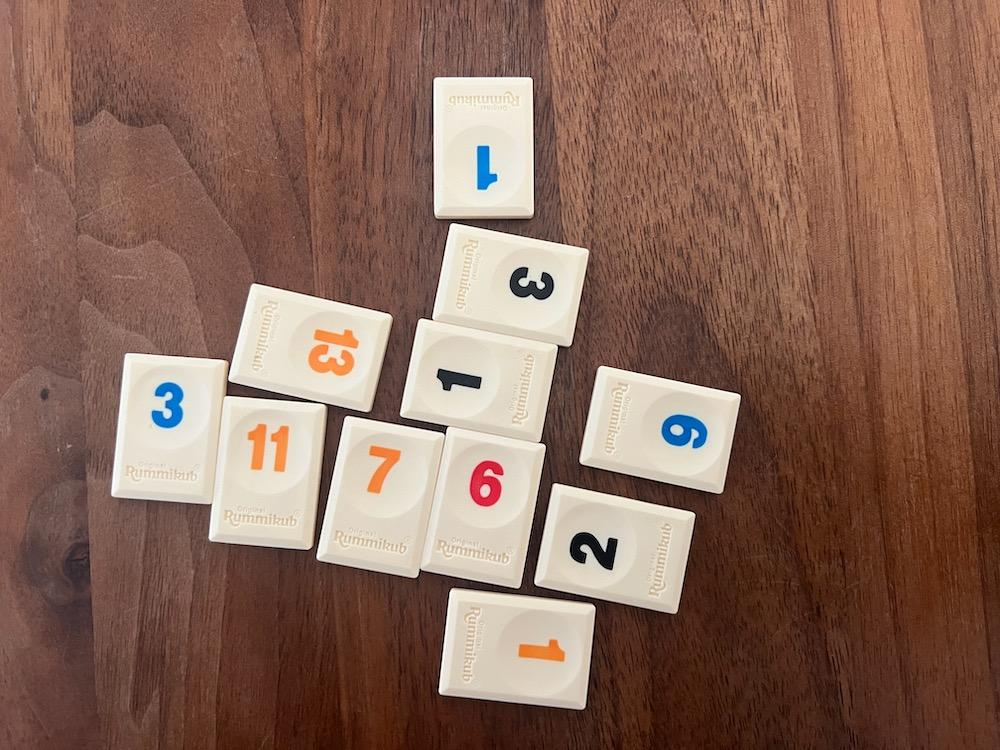black_1: (401, 318, 557, 441)
black_2: (536, 484, 695, 613)
black_3: (432, 223, 588, 346)
blue_1: (434, 78, 533, 219)
blue_3: (111, 354, 227, 504)
blue_6: (580, 367, 740, 494)
orange_1: (439, 588, 596, 709)
orange_11: (209, 396, 326, 549)
orange_13: (229, 285, 393, 412)
orange_7: (318, 416, 445, 578)
red_6: (423, 428, 545, 588)
